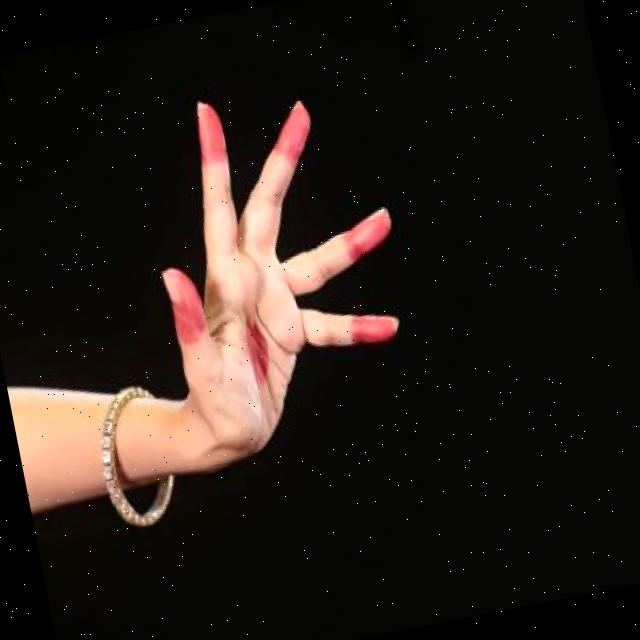Alapadma: (70, 24, 473, 525)
